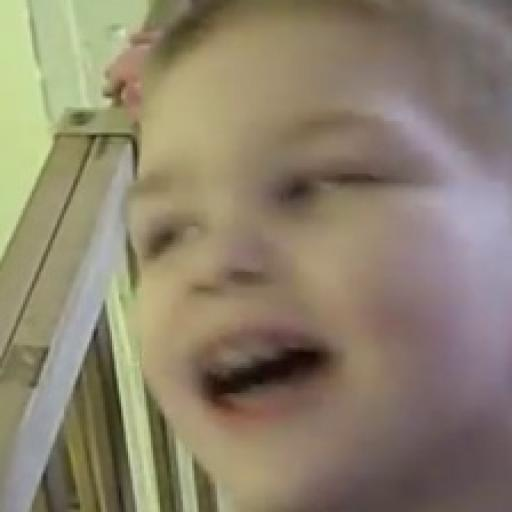Autism: (107, 9, 512, 512)
